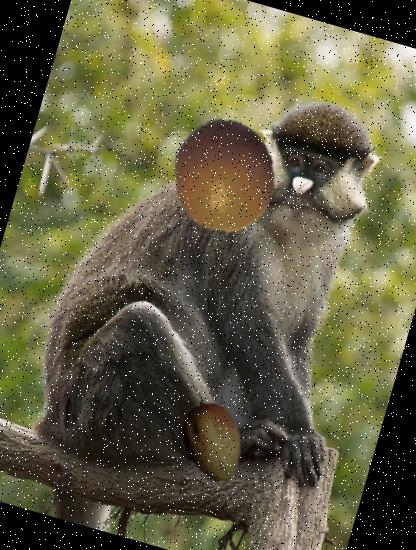Grapefruit: (154, 105, 294, 245)
Papaya: (160, 390, 264, 494)
